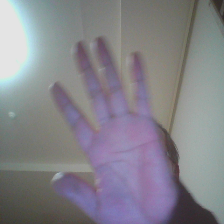hand: (43, 39, 180, 222)
